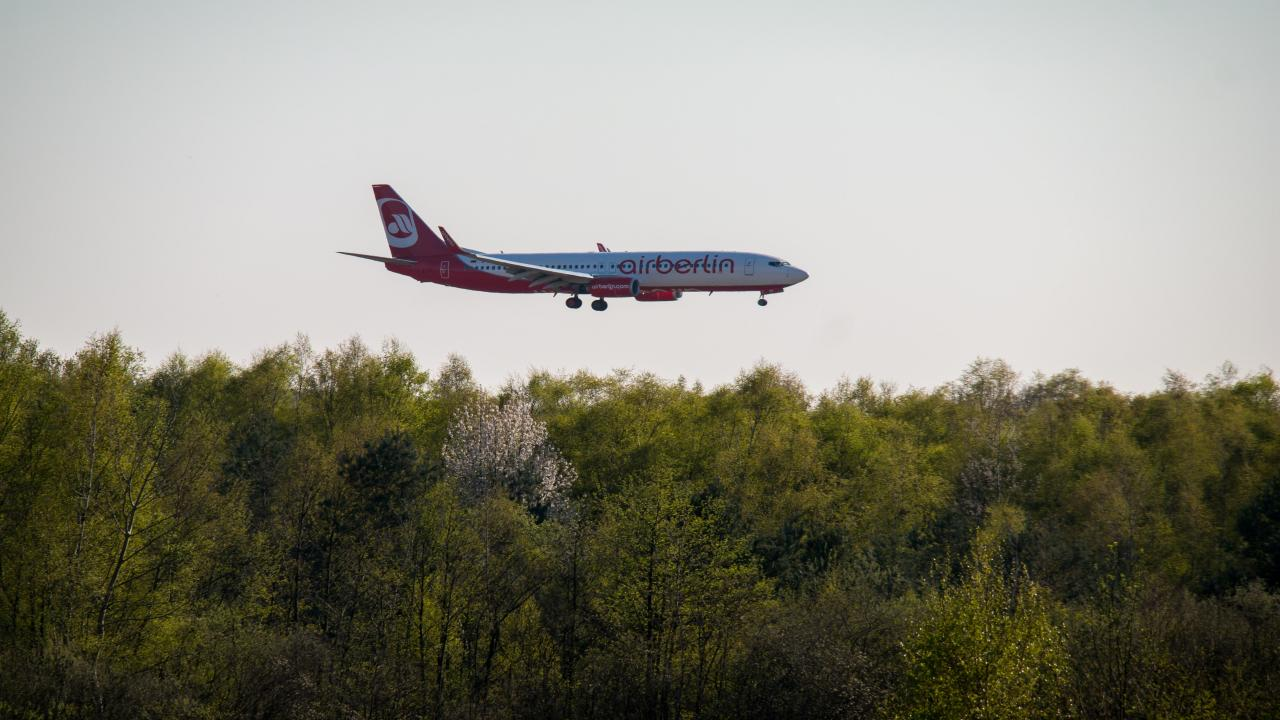Airplane: (340, 164, 825, 326)
